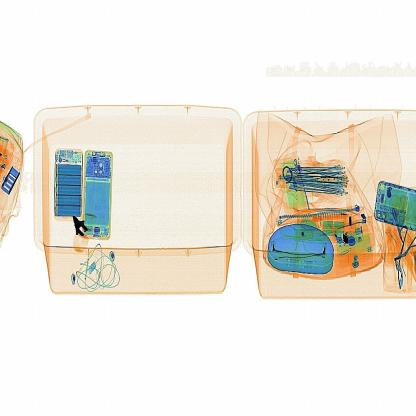gun: (64, 212, 106, 260)
